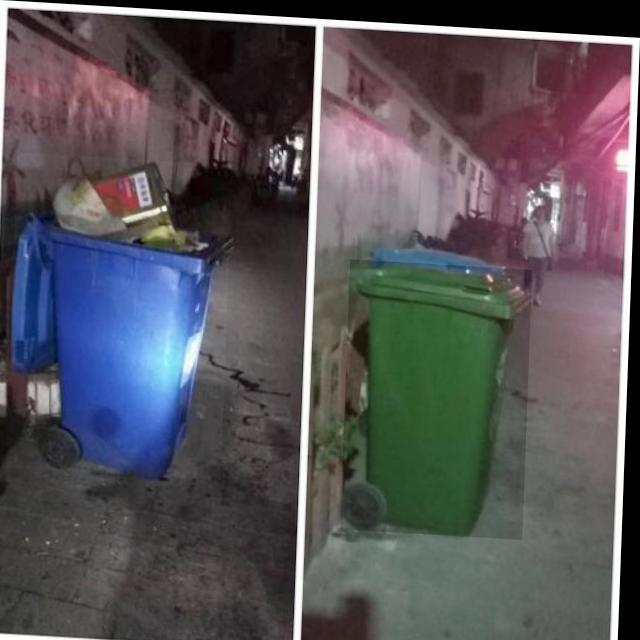garbage_bin: (345, 255, 535, 533)
overflow: (9, 152, 234, 477)
